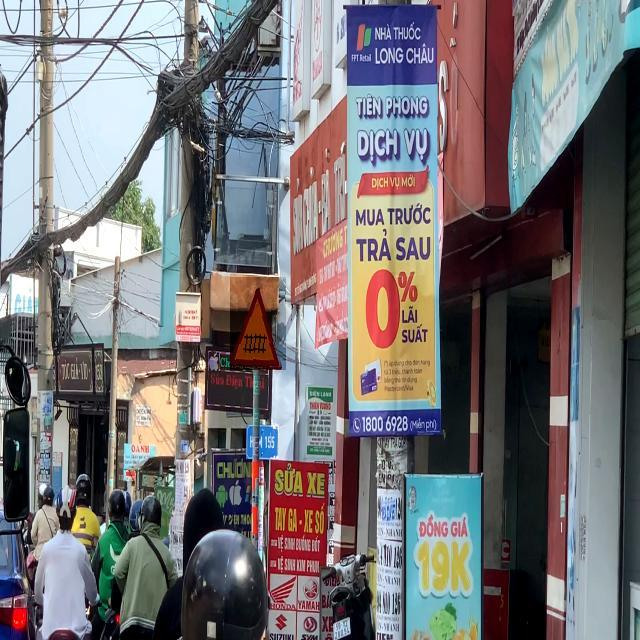W-210: (231, 277, 287, 370)
